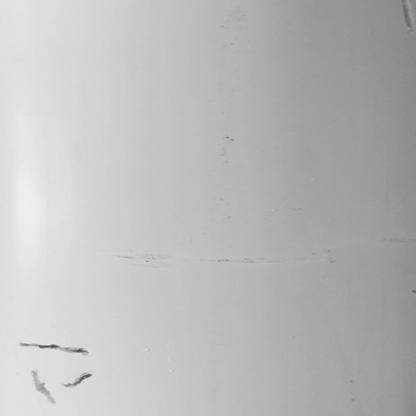fengxi: (15, 340, 92, 359), (32, 372, 57, 406), (66, 374, 94, 387)
sunshang: (400, 1, 413, 33)
